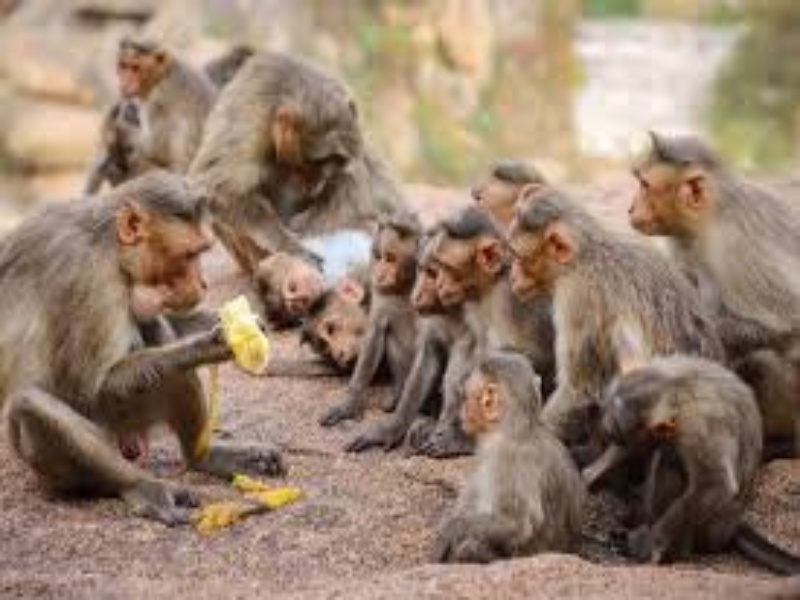monkey: (7, 30, 782, 578)
